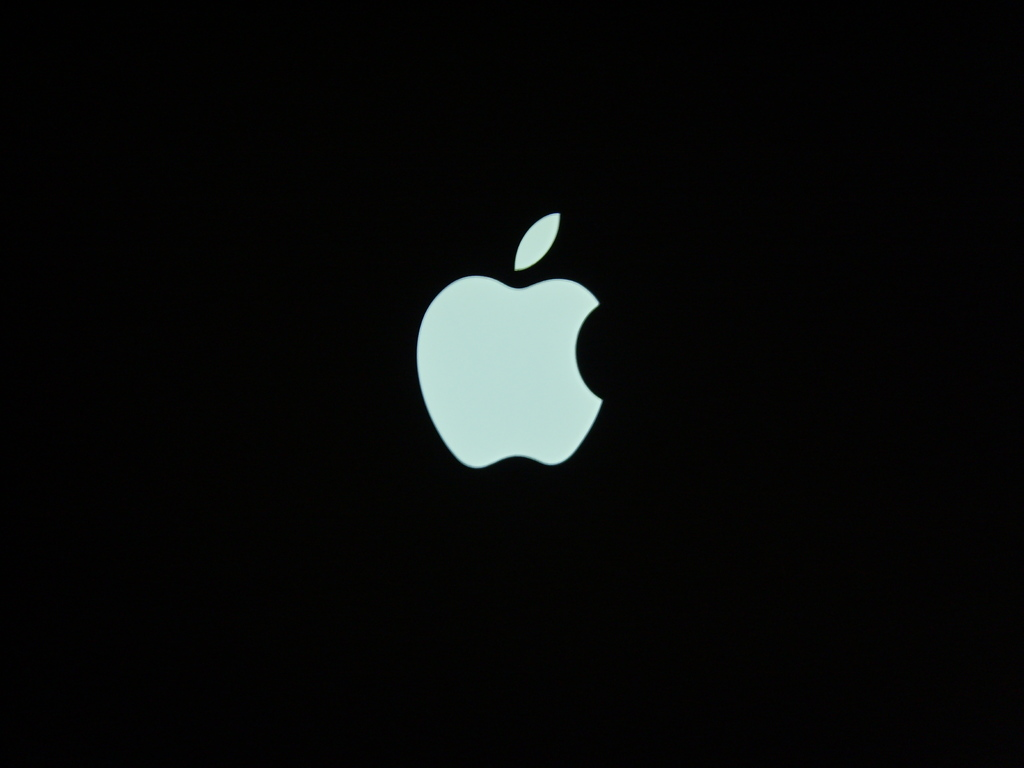Apple: (404, 242, 620, 506)
